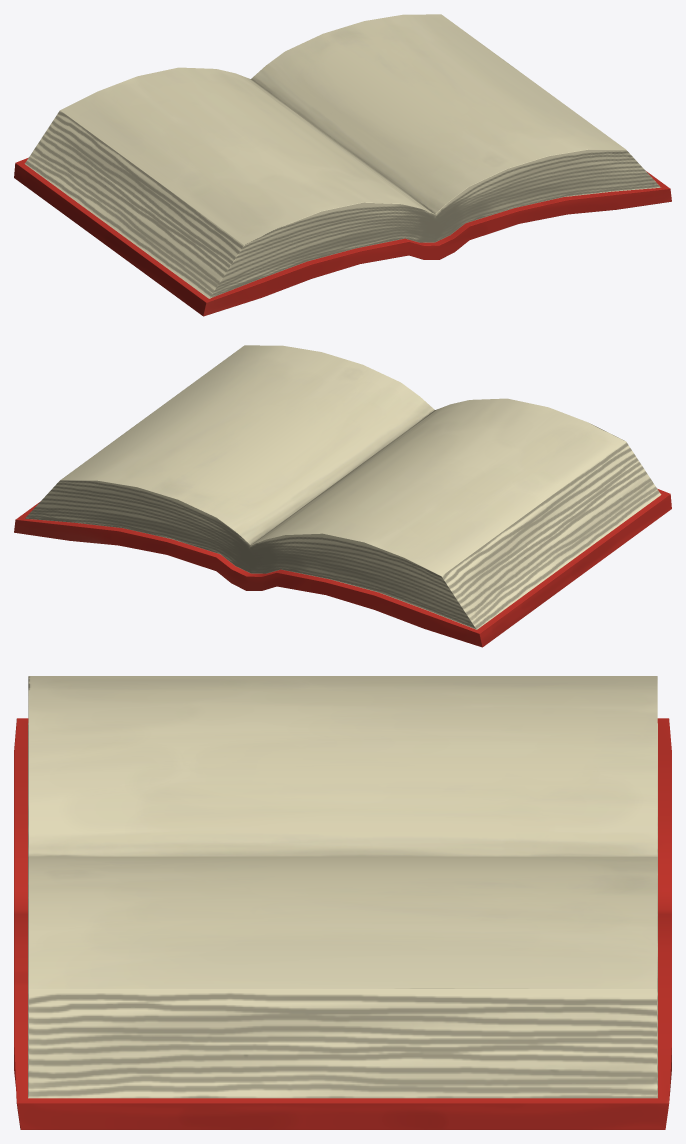
File: open_book.fbx
3 views of the same model, one above another, from view 1: azimuth 30°, elevation 25°; view 2: azimuth 150°, elevation 25°; view 3: azimuth 270°, elevation 25° (orthographic). The views are drawn at different scales.
Parts seen in each view (by area): view 1: Cube; view 2: Cube; view 3: Cube.
Part boxes in pixels (<box>): Cube: <box>14,14,671,316</box>; Cube: <box>14,345,671,647</box>; Cube: <box>14,676,671,1129</box>.
Bounding box in the file's own units: 2188 × 330 × 1559.
1 material, 1 textured.
